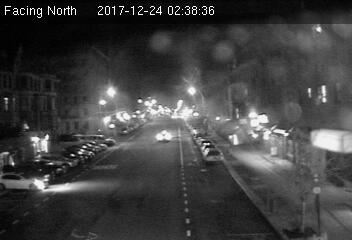car: (203, 148, 224, 163), (154, 128, 171, 143)
